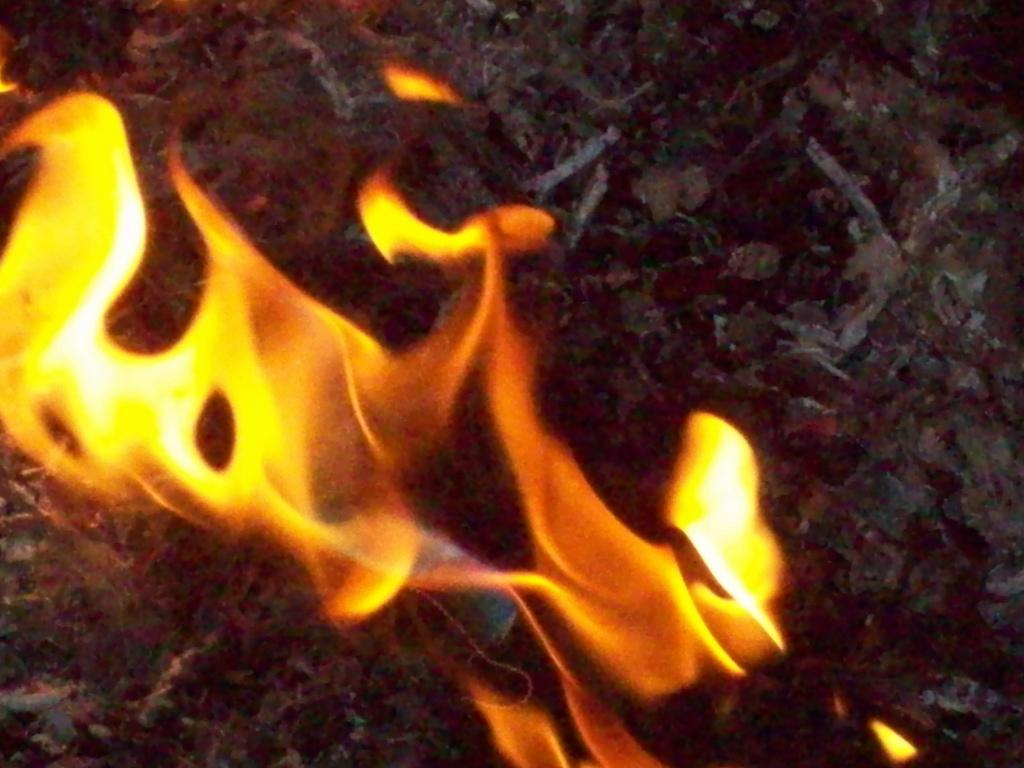fire: (248, 326, 390, 574), (22, 168, 122, 404), (556, 546, 678, 692), (694, 462, 756, 570)
